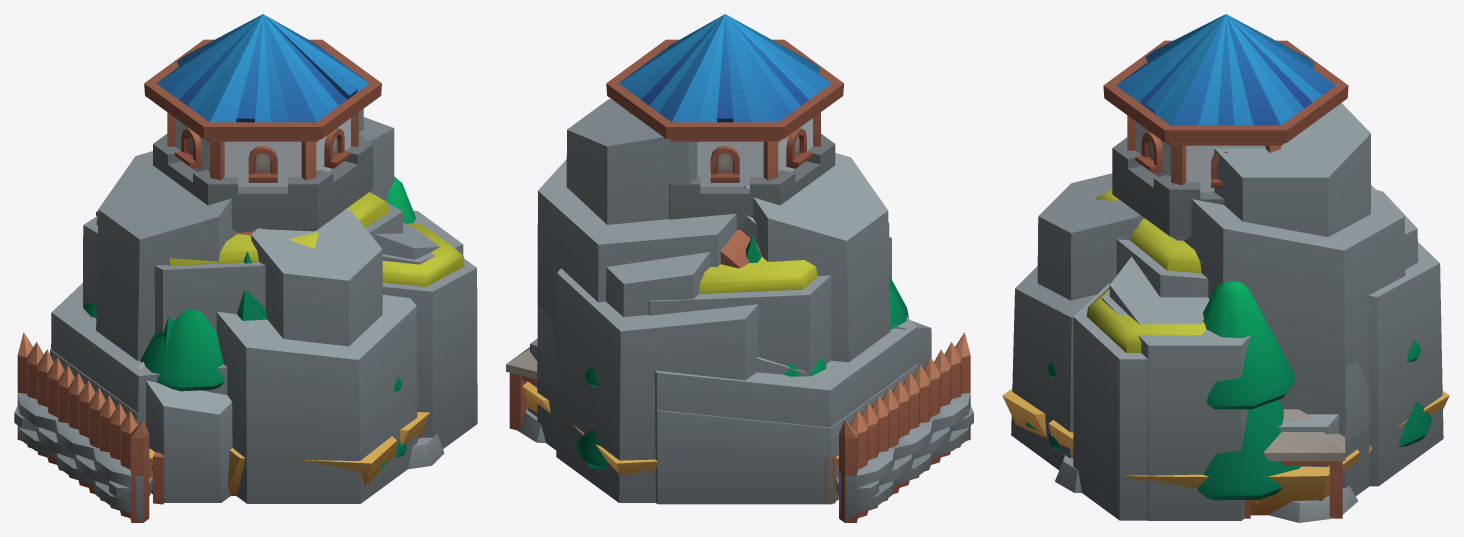
File: medieval.glb
3 renders of one model, left to right at view 1: azimuth 30°, elevation 25°; view 2: azimuth 150°, elevation 25°; view 3: azimuth 270°, elevation 25°, orthographic. The views are drawn at different scales.
Visible parts, largest first — view 1: mountain_C, building_tower_A_top_blue, mountain_A, building_tower_A_blue, mountain_B, fence_wood_straight, fence_stone_straight, trees_B_medium, mountain_A_grass, building_grain, hills_A_trees, building_market_red; view 2: mountain_C, mountain_B, building_tower_A_top_blue, mountain_A, fence_wood_straight, fence_stone_straight, building_tower_A_blue, mountain_A_grass, building_market_red, trees_B_medium, building_grain, building_tavern_blue (+1 smaller); view 3: mountain_B, mountain_C, building_tower_A_top_blue, mountain_A, trees_B_medium, building_grain, building_tower_A_blue, mountain_A_grass, building_market_red, hills_A_trees.
Boxes of the visible parts, <box> form: mountain_C: <box>96,151,476,503</box>; building_tower_A_top_blue: <box>144,14,381,186</box>; mountain_A: <box>50,202,477,448</box>; building_tower_A_blue: <box>153,133,373,232</box>; mountain_B: <box>51,109,463,425</box>; fence_wood_straight: <box>17,332,149,522</box>; fence_stone_straight: <box>14,393,152,522</box>; trees_B_medium: <box>83,176,415,457</box>; mountain_A_grass: <box>96,192,464,286</box>; building_grain: <box>149,412,429,496</box>; hills_A_trees: <box>236,251,444,469</box>; building_market_red: <box>149,452,164,504</box>; mountain_C: <box>528,153,931,502</box>; mountain_B: <box>537,99,917,503</box>; building_tower_A_top_blue: <box>606,14,843,186</box>; mountain_A: <box>538,223,918,504</box>; fence_wood_straight: <box>839,332,970,522</box>; fence_stone_straight: <box>835,392,973,522</box>; building_tower_A_blue: <box>669,134,835,229</box>; mountain_A_grass: <box>699,256,817,293</box>; building_market_red: <box>506,347,835,504</box>; trees_B_medium: <box>576,275,908,470</box>; building_grain: <box>522,381,838,475</box>; building_tavern_blue: <box>720,215,761,268</box>; mountain_B: <box>1102,103,1405,520</box>; mountain_C: <box>1011,173,1443,518</box>; building_tower_A_top_blue: <box>1103,14,1348,192</box>; mountain_A: <box>1073,239,1369,520</box>; trees_B_medium: <box>1048,281,1431,500</box>; building_grain: <box>1002,389,1449,515</box>; building_tower_A_blue: <box>1112,137,1224,240</box>; mountain_A_grass: <box>1086,189,1206,352</box>; building_market_red: <box>1244,409,1345,518</box>; hills_A_trees: <box>1055,455,1358,522</box>.
Bounding box in the file's own units: 2.07 × 2.29 × 2.09.
1 material, 1 textured.
